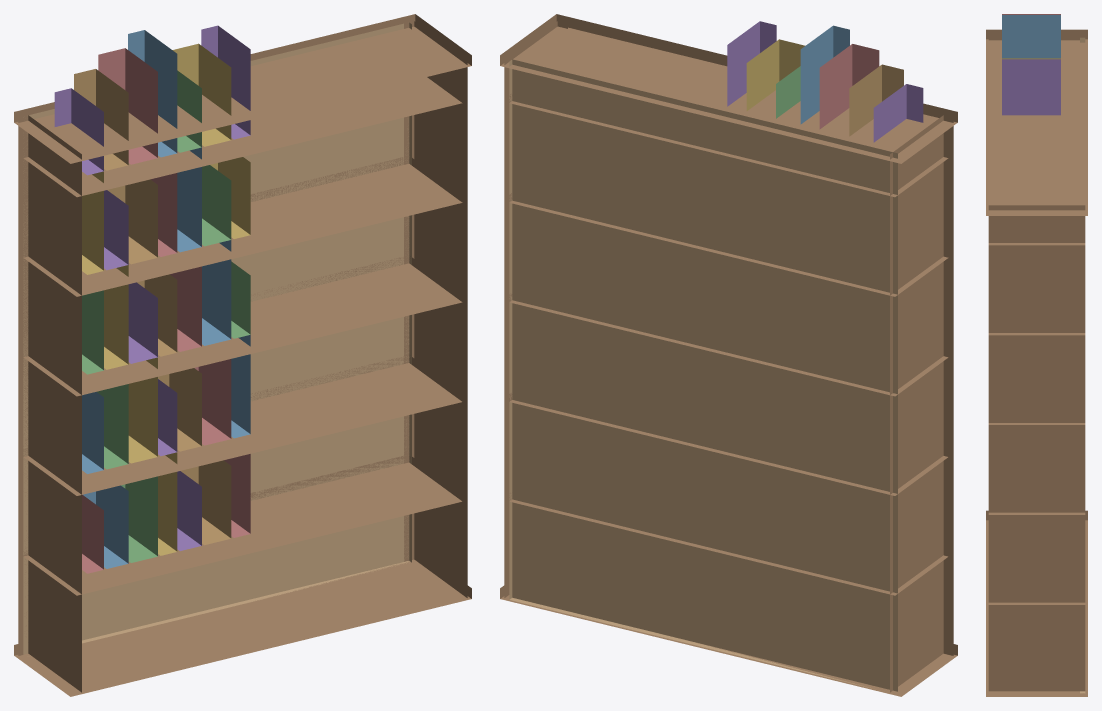
File: kitaplik.glb
3 renders of one model, left to right at view 1: azimuth 30°, elevation 25°; view 2: azimuth 150°, elevation 25°; view 3: azimuth 270°, elevation 25°, orthographic. The views are drawn at different scales.
Size of the model in its own units: 1.56 by 2.26 by 0.38.
